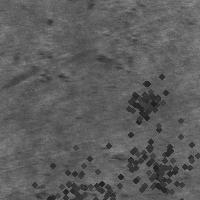rolled-in_scale: (101, 110, 200, 200), (7, 35, 138, 89), (28, 139, 136, 200), (27, 151, 127, 198), (116, 73, 170, 127)
